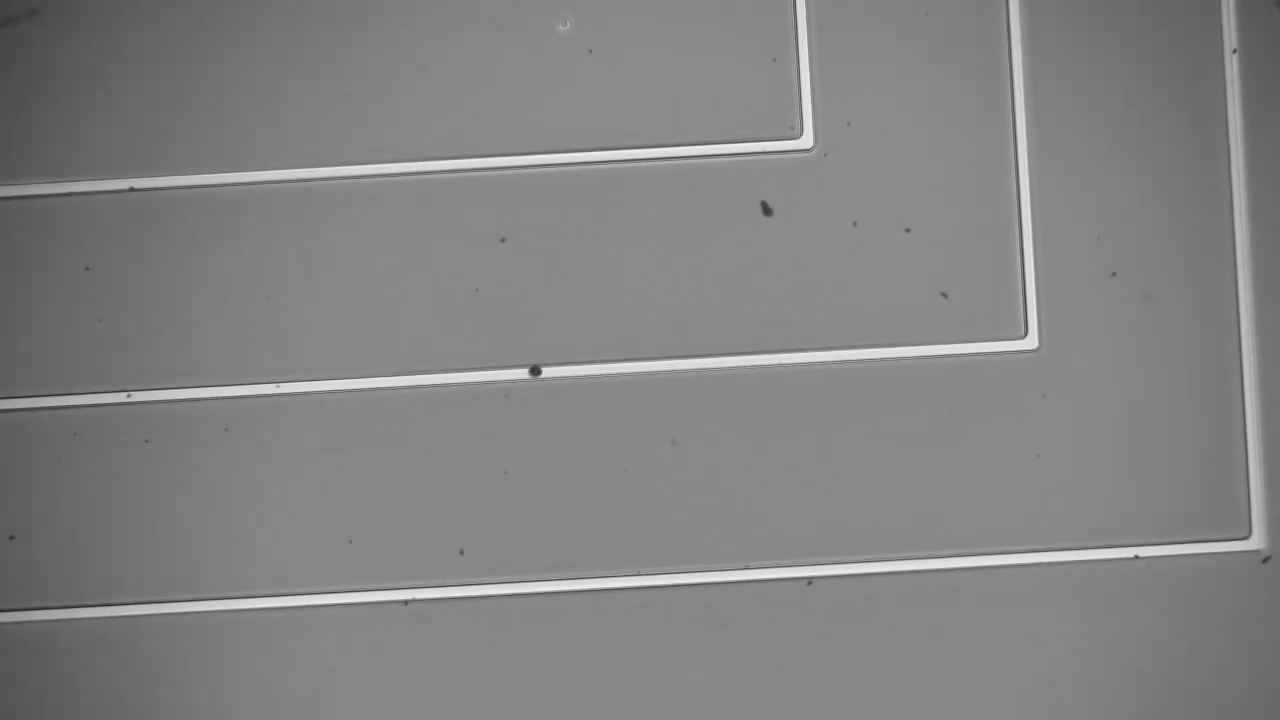stains_enbedded: (521, 356, 556, 386)
